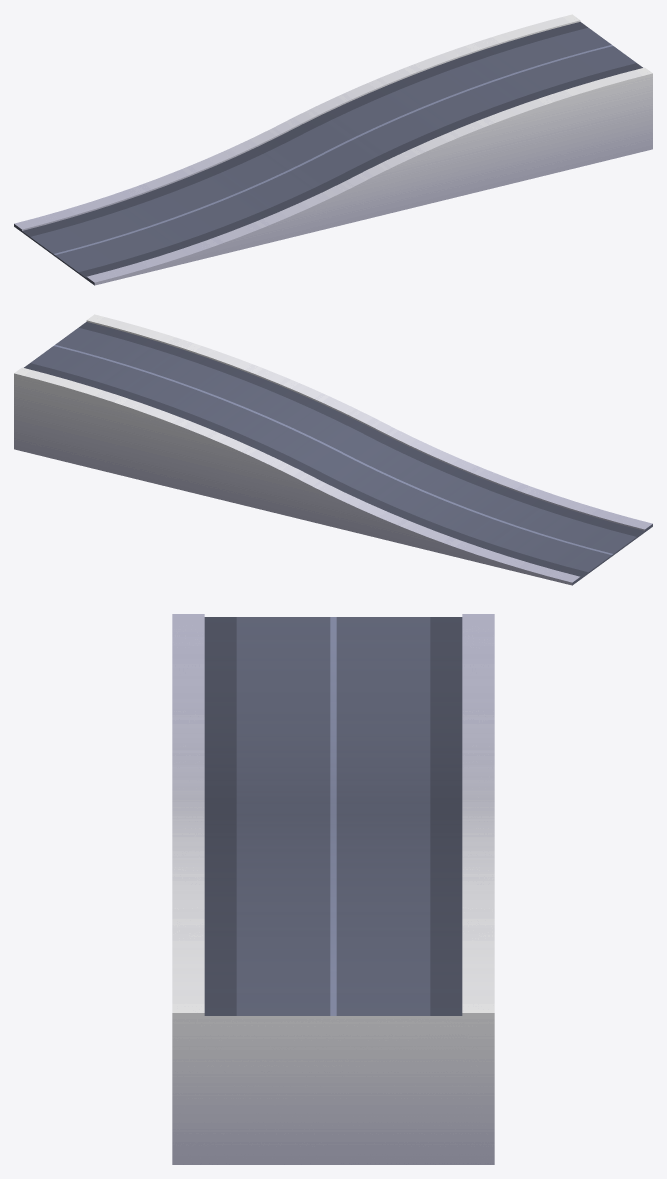
File: road-slant-curve_4.glb
3 renders of one model, top to bottom at view 1: azimuth 30°, elevation 25°; view 2: azimuth 150°, elevation 25°; view 3: azimuth 270°, elevation 25°, orthographic. The views are drawn at different scales.
Parts seen in each view (by area): view 1: road-slant-curve_4; view 2: road-slant-curve_4; view 3: road-slant-curve_4.
Part boxes in pixels (box(x1,y1,x2,y2)): road-slant-curve_4: box(14, 14, 652, 285); road-slant-curve_4: box(14, 314, 652, 585); road-slant-curve_4: box(172, 614, 494, 1164).
Size of the model in its own units: 4 by 0.52 by 1.
1 material, 1 textured.
